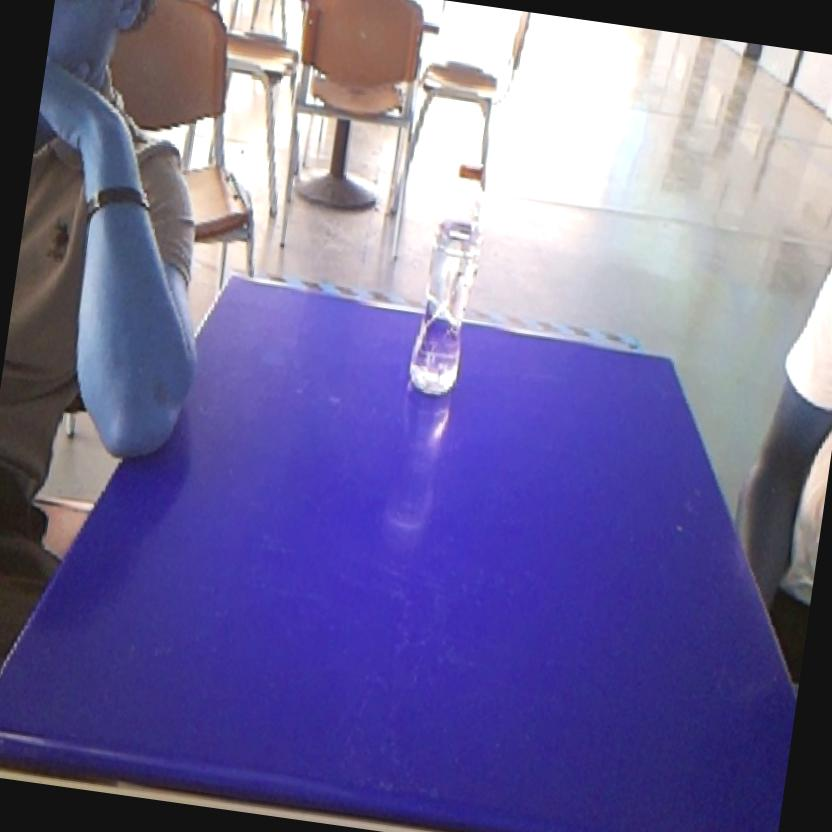no_label: (397, 148, 501, 409)
